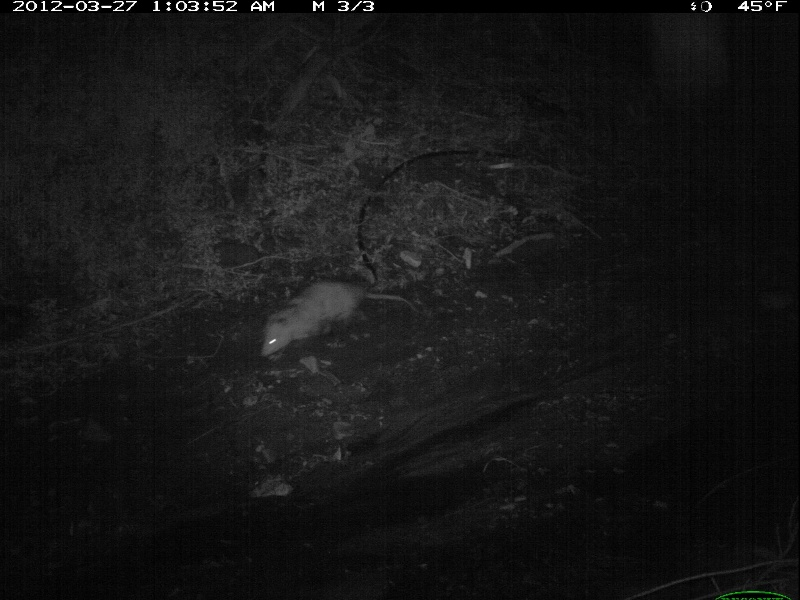opossum: (260, 272, 419, 357)
